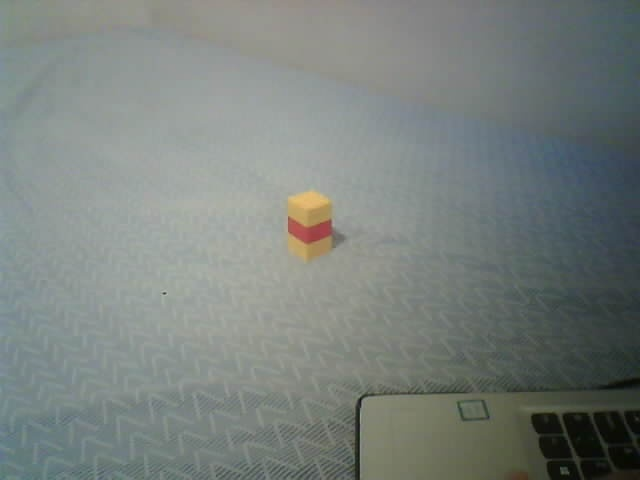lego: (285, 189, 332, 263)
